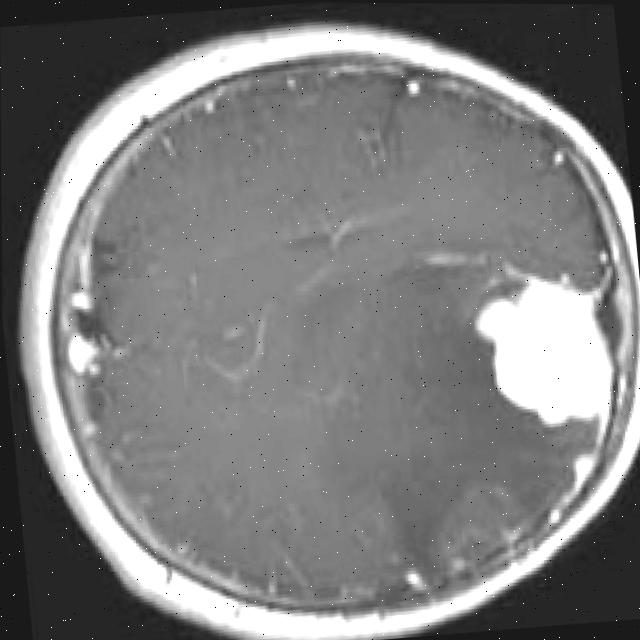Meningioma: (469, 272, 618, 437)
